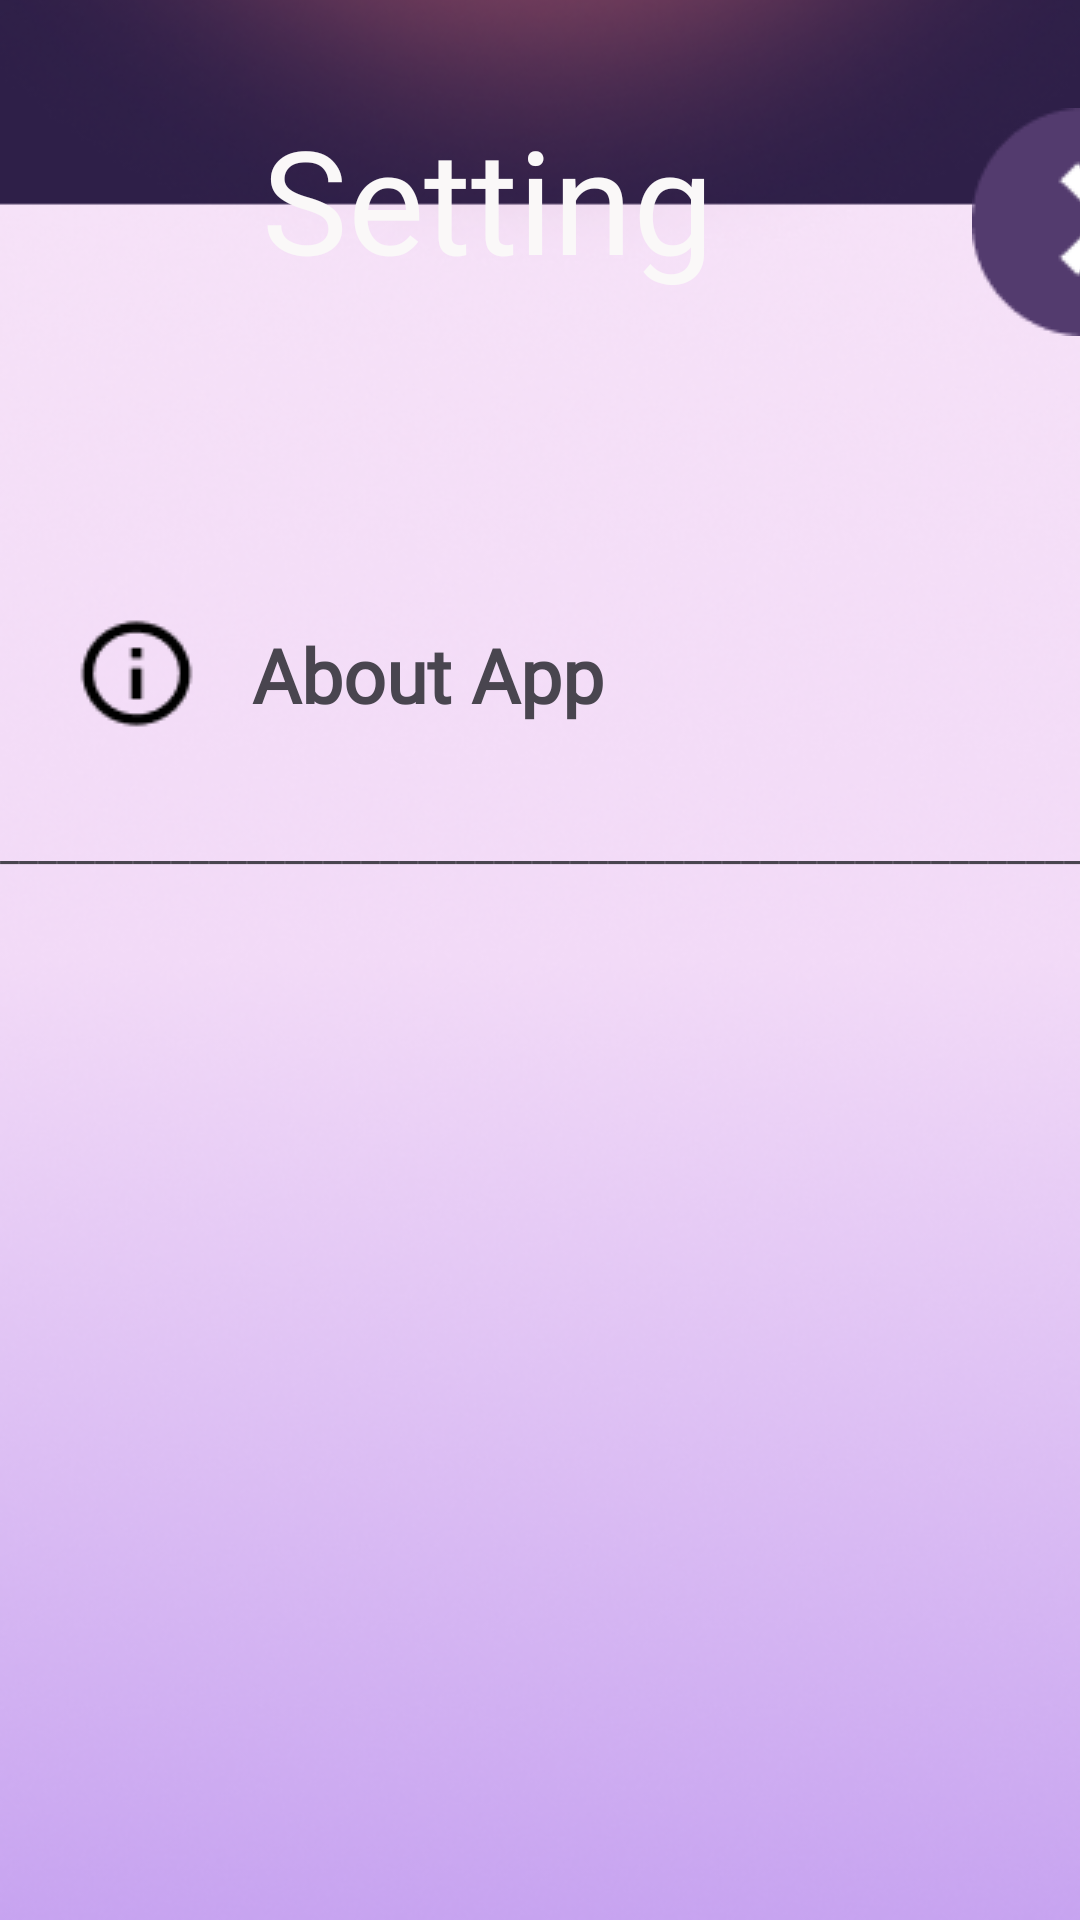

Point at icon controls on the screen. Image size 1080×1920, points as (x=x, y=y).
info: (x=136, y=673)
